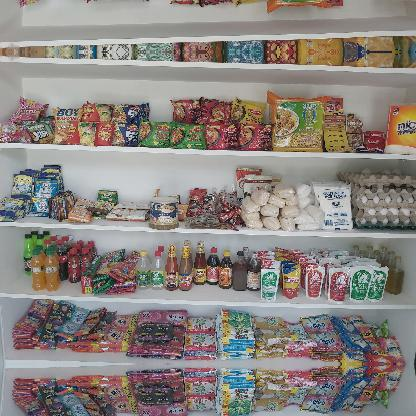Lady-s-Choice: (148, 196, 178, 230)
